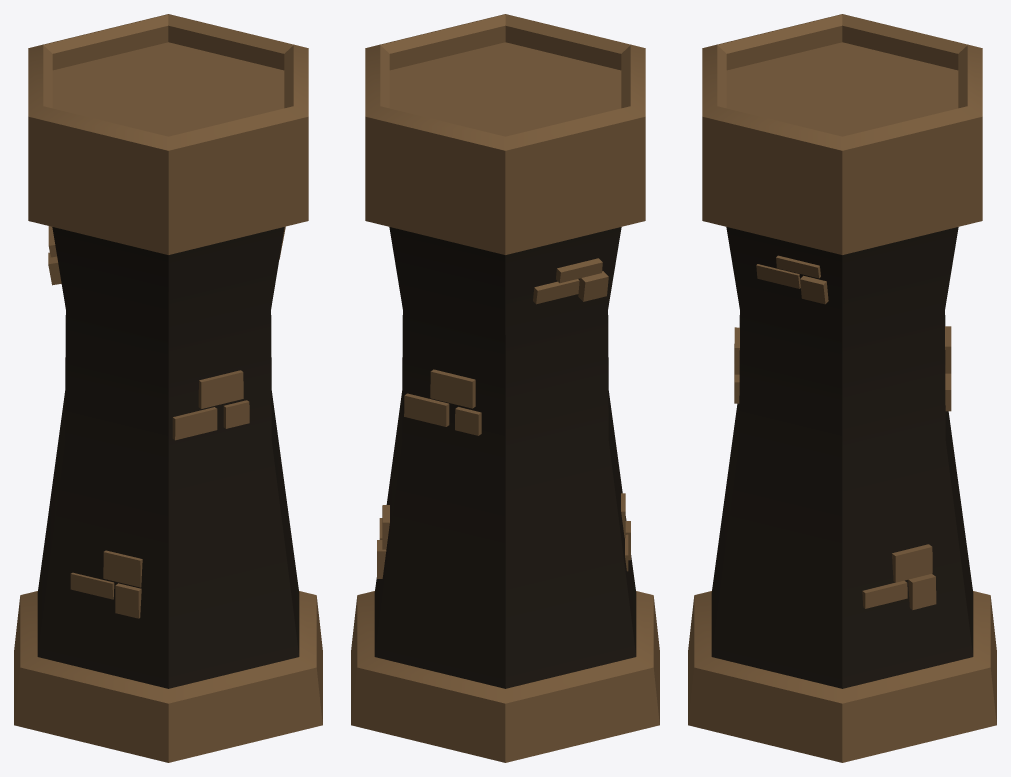
Rendered from P_Tower_LVL1.FBX.
3 renders of one model, left to right at view 1: azimuth 30°, elevation 25°; view 2: azimuth 150°, elevation 25°; view 3: azimuth 270°, elevation 25°, orthographic.
Visible parts, largest first — view 1: P_tower_LVL1; view 2: P_tower_LVL1; view 3: P_tower_LVL1.
Boxes of the visible parts, x1,y1,x2,y2 form: P_tower_LVL1: (14,14,322,762); P_tower_LVL1: (351,14,659,762); P_tower_LVL1: (688,14,996,762).
Size of the model in its own units: 20.67 by 39.17 by 17.9.
